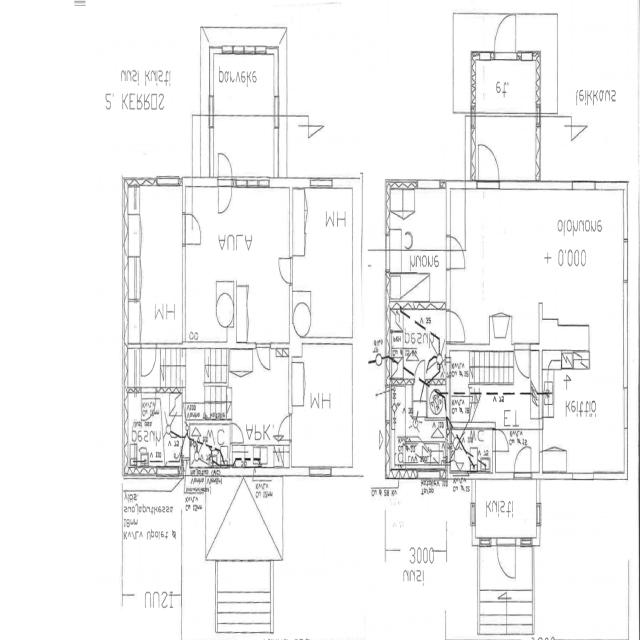door: (494, 11, 516, 60), (478, 141, 499, 189), (497, 538, 515, 580), (446, 236, 467, 269), (514, 440, 531, 480), (446, 311, 466, 342), (182, 214, 201, 244), (218, 177, 232, 212), (218, 152, 232, 187), (515, 344, 529, 378), (142, 343, 156, 376), (275, 259, 293, 284), (141, 387, 155, 419), (276, 415, 293, 440), (257, 343, 270, 373), (493, 429, 507, 451), (415, 359, 425, 385), (230, 425, 242, 443)
